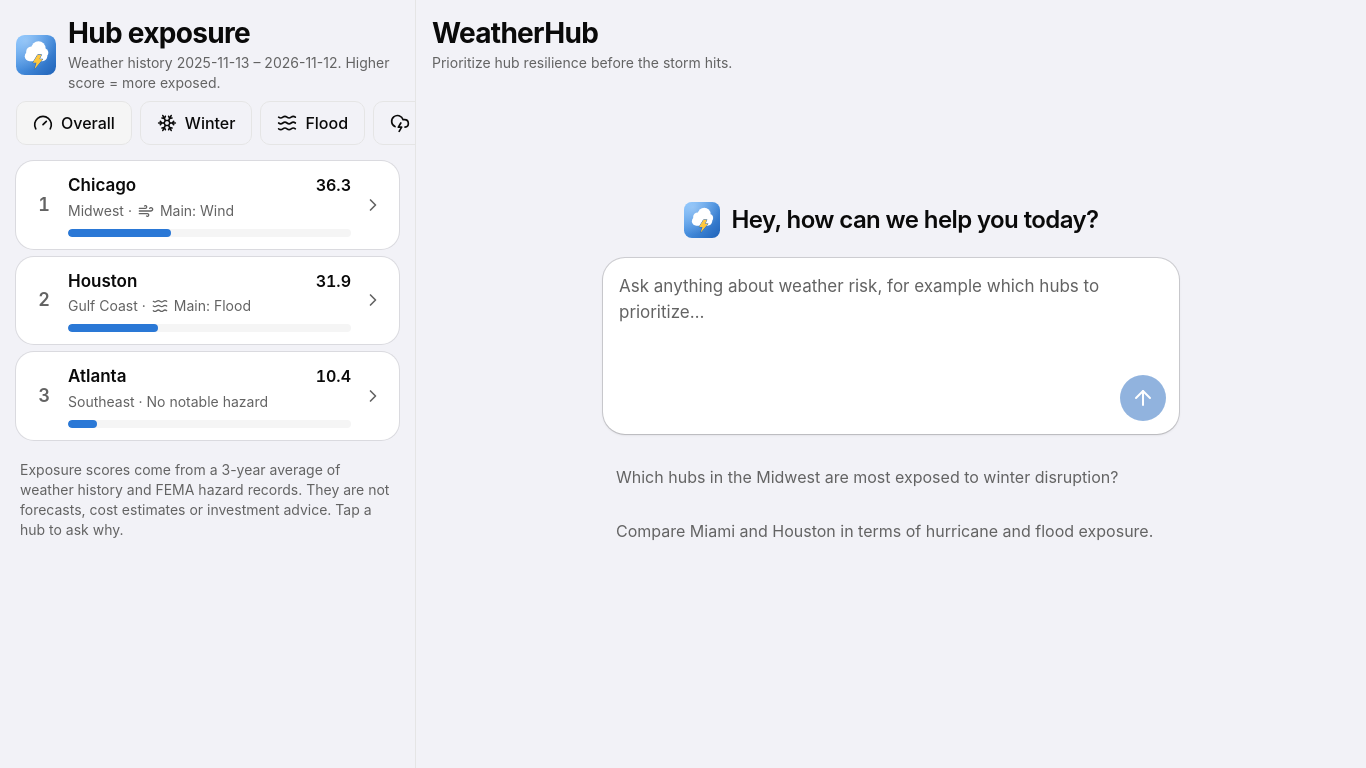
Test case: The agent is easy to find › says to wait, instead of silently dropping it, when a hub is tapped while an answer is coming
The width and height of the screenshot is (1366, 768).
Click the button "Which hubs in the Midwest are most exposed to winter disruption?": (891, 477) [603,454,1179,500]
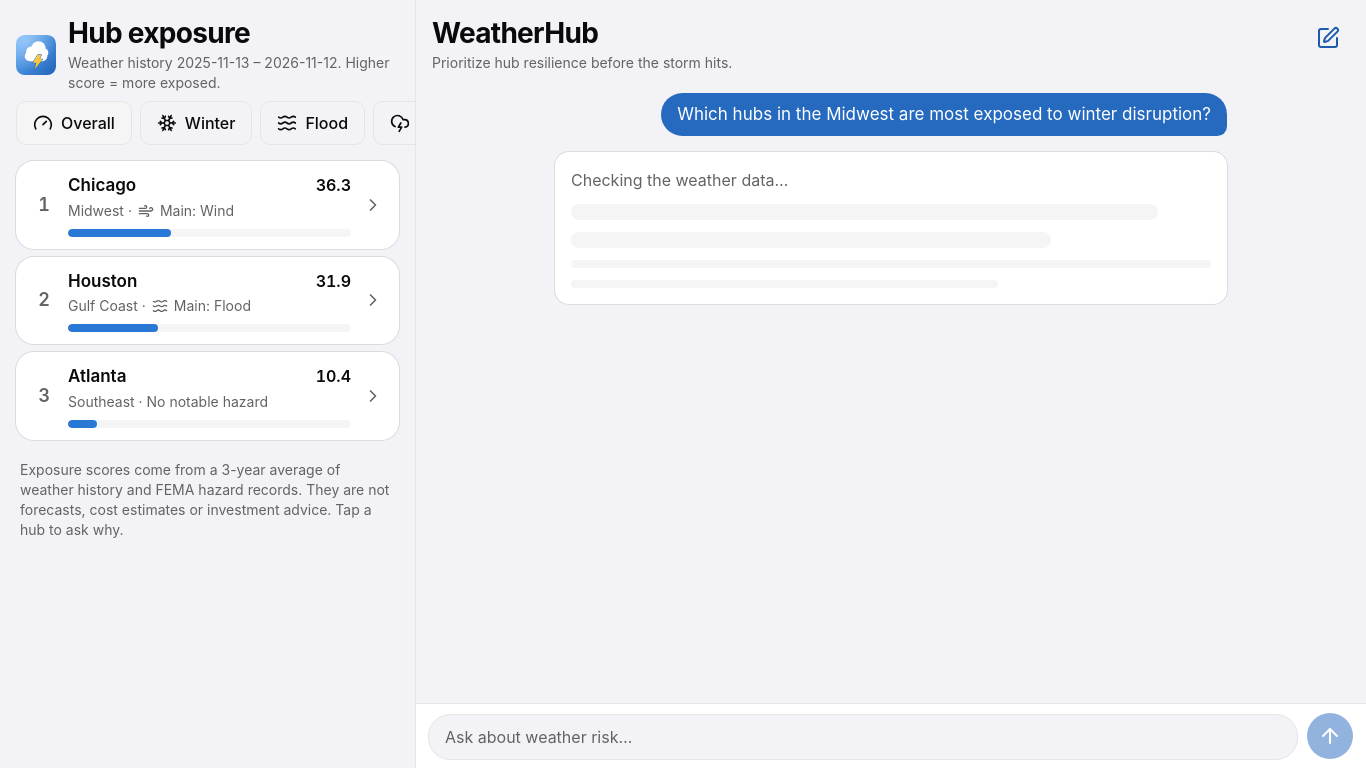
Click the button with aria-label "Chicago, rank 1": (208, 205) [16,161,399,248]
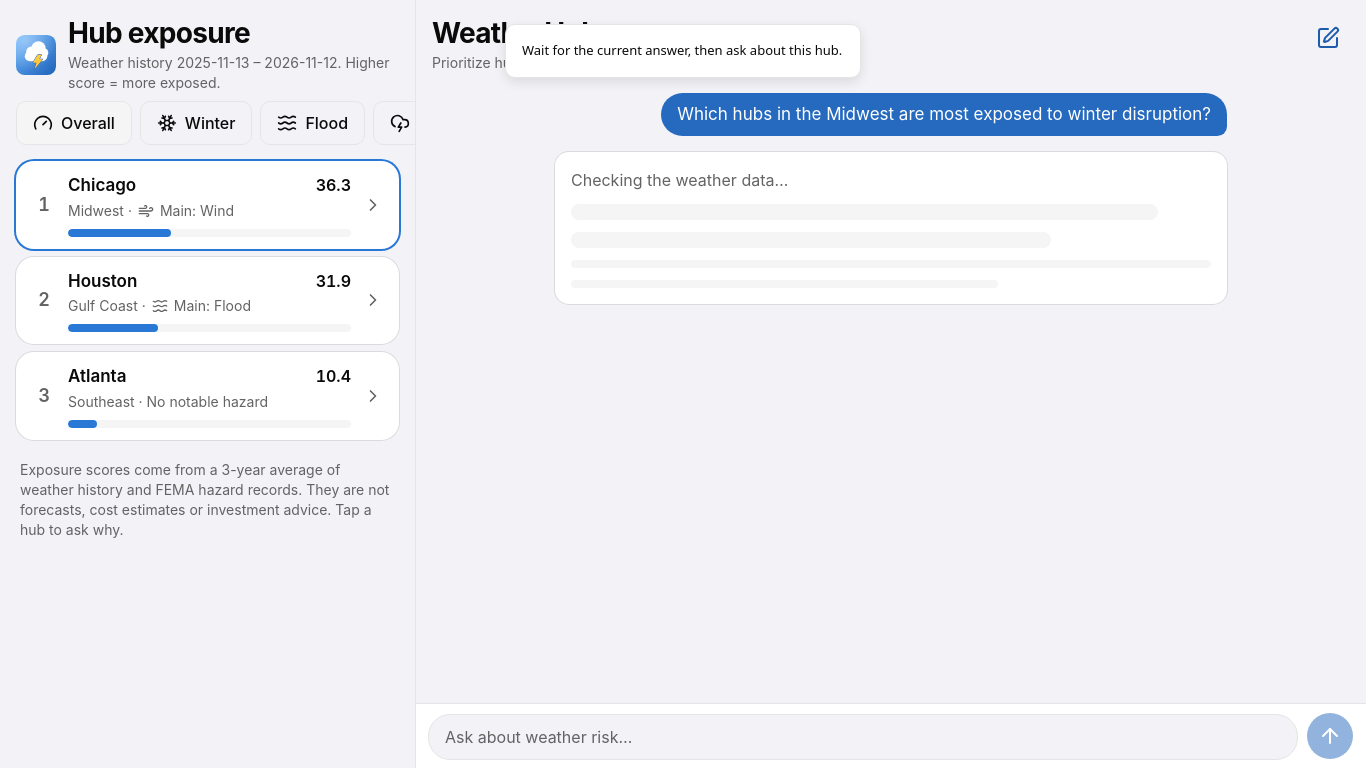
Check: the text "Wait for the current answer, then ask about this hub." is shown, box [522,41,842,60]
